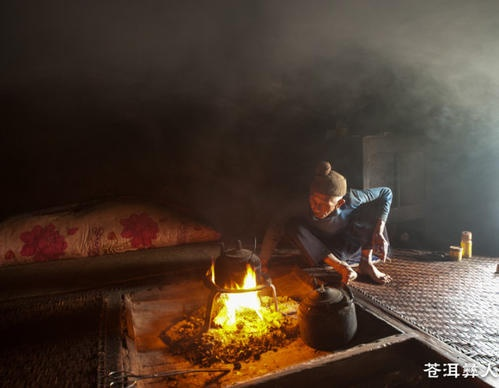fire: (209, 258, 271, 338)
